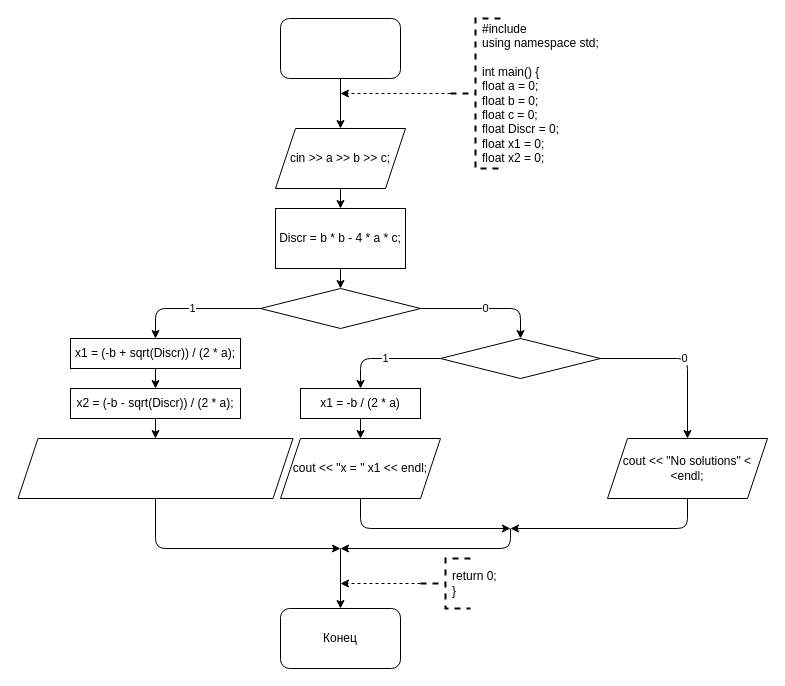
The diagram is 785 pixels wide and 686 high, and some of its shapes have lost their labels. The shapes that lost their labels are listed below. From the top down, each one's centre as x and y in pixels, then its label:
pixel 340 48: Начало
pixel 340 308: if (Discr > 0)
pixel 520 358: if (Disr == 0)
pixel 155 468: cout << "x1 = " x1 << endl << "x2 = " << x2 << endl;
